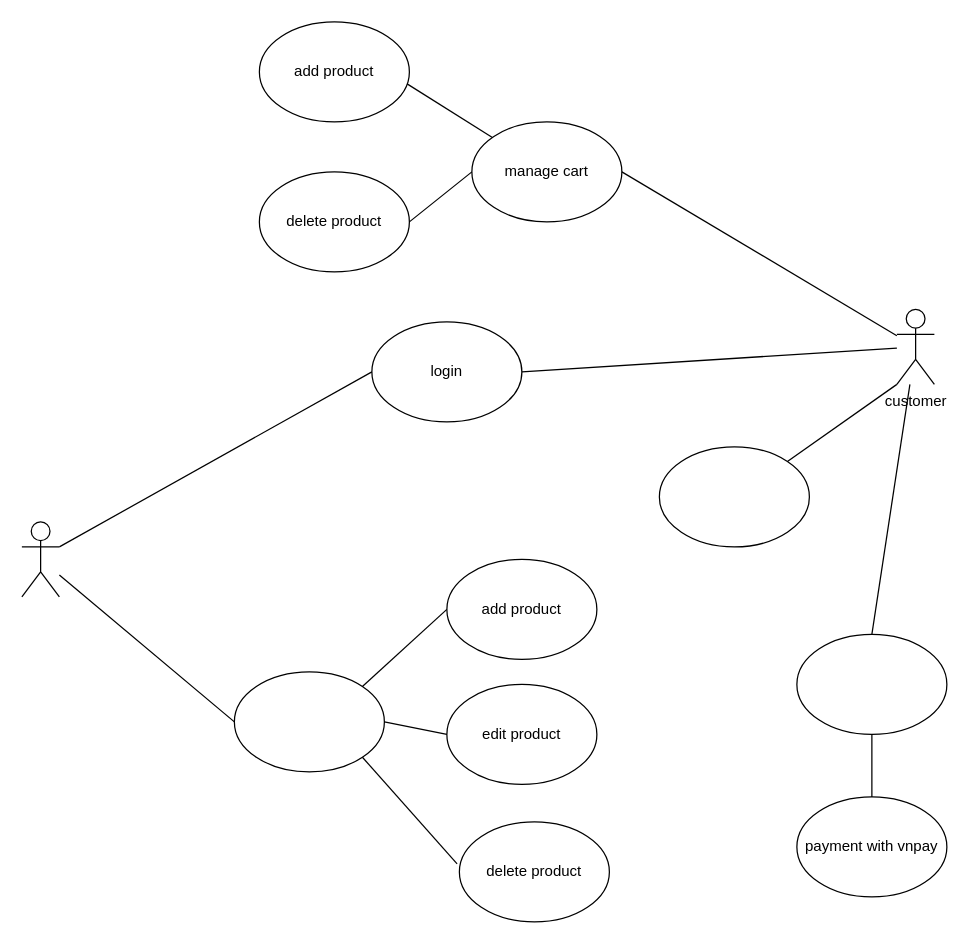
Image size: 969x944. Some labels were removed from this diagram. The shapes that lost their labels are listed below. From the top down, each one's box as (x1, y1, x2, y2) in pixels, then its label:
(658, 446, 809, 547): register
(21, 521, 59, 597): staff
(796, 633, 947, 734): payment
(233, 671, 384, 772): manage products
